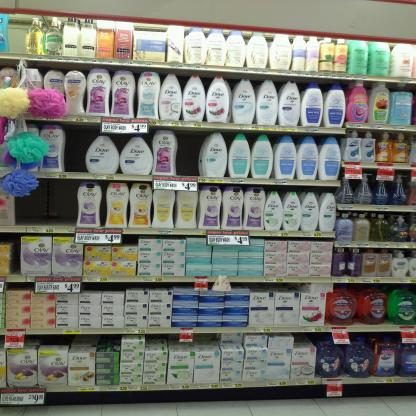Void: (38, 183, 77, 222), (64, 130, 83, 172), (180, 133, 196, 177), (42, 336, 119, 344), (195, 332, 219, 346), (146, 335, 174, 346), (18, 202, 31, 222), (298, 336, 312, 347)
